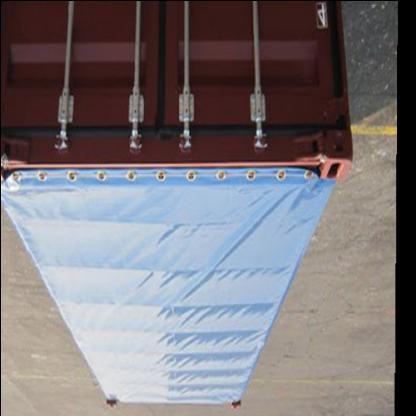Damage: (292, 97, 354, 169), (138, 113, 184, 148)
